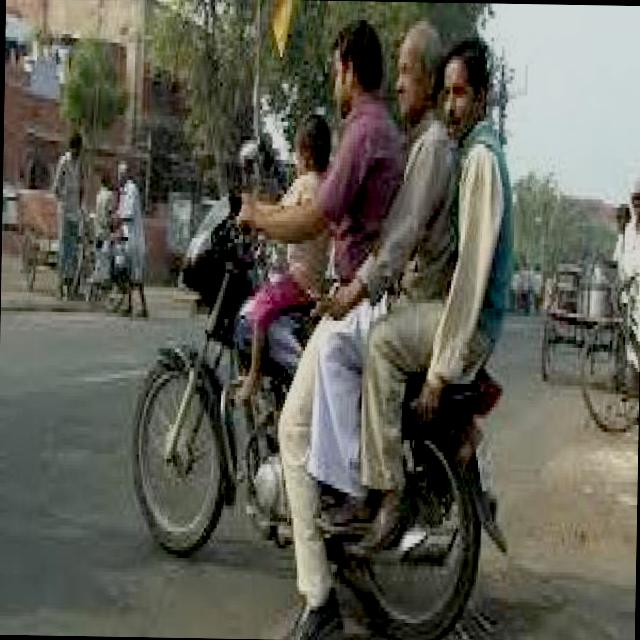motorcycle: (122, 177, 508, 640)
person: (356, 12, 460, 431), (311, 12, 404, 445), (427, 42, 524, 450), (268, 116, 328, 316)
rider_region: (132, 9, 512, 636)
